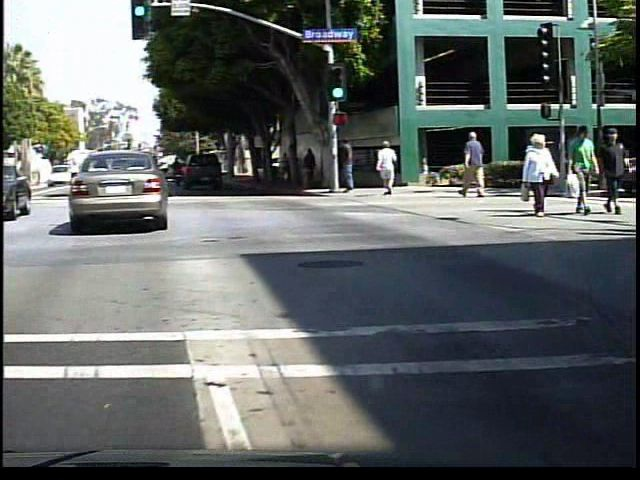person: (522, 133, 564, 216), (568, 124, 600, 217), (603, 125, 632, 214), (460, 129, 493, 197), (379, 139, 405, 198), (342, 135, 363, 200), (307, 145, 326, 191), (285, 150, 304, 189)
